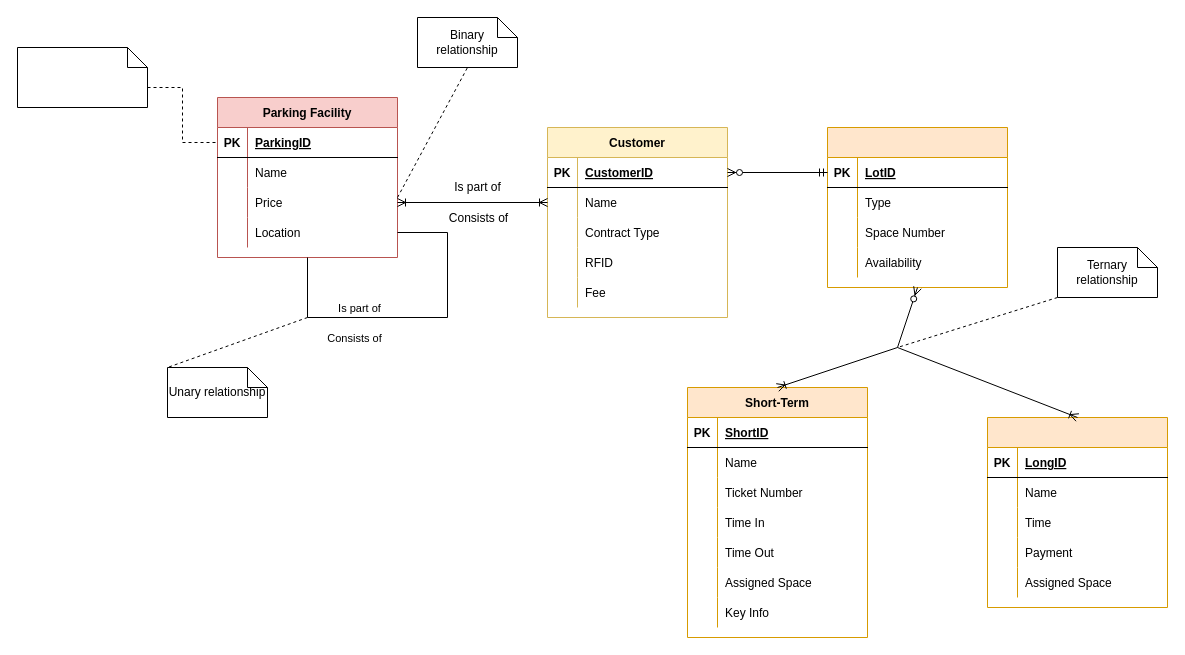
The diagram is 1185 pixels wide and 655 high, and some of its shapes have lost their labels. The box of each missing label's shape, as (x1, y1, x2, y2) in pixels:
Long-Term: (986, 416, 1168, 608)
Parking Lot: (826, 126, 1008, 288)
PK = Primary Key: (16, 46, 148, 108)
